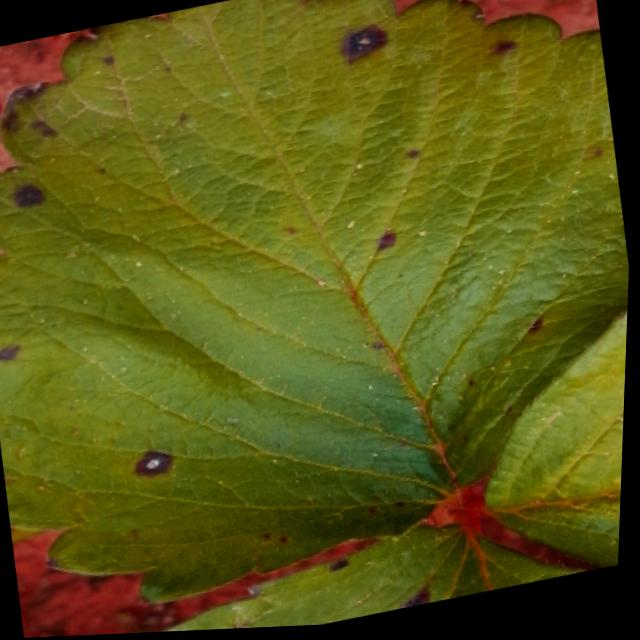Leaf Spot: (0, 0, 631, 606), (170, 521, 592, 633), (487, 309, 630, 573)
